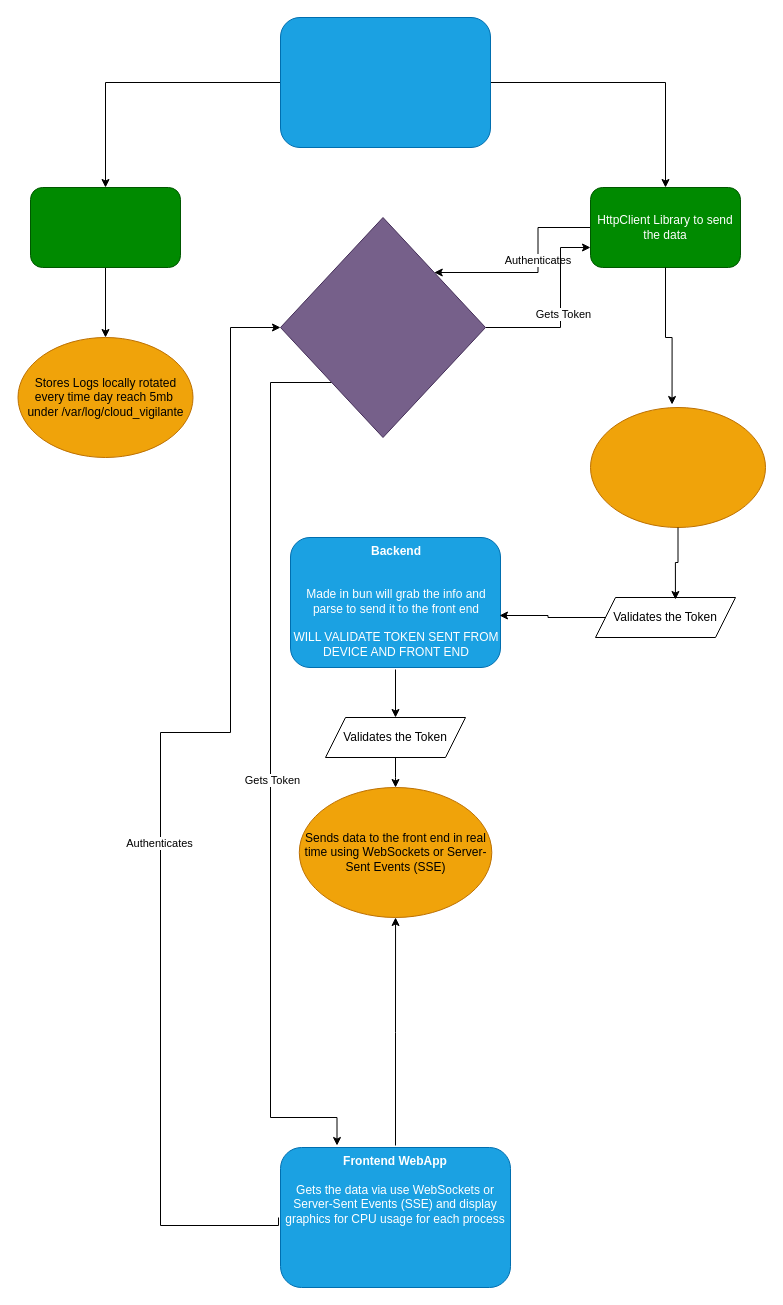
Image size: 783x1305. Some labels were removed from this diagram. The centre of each missing label's shape, as x and y in pixels:
Authentication for APIs will be done using OAUTH 2.0 and JWT: point (383, 327)
Local Logging Capability: point (105, 227)
Process Information Gatherer: Process Name Process Command Cpu Usage: point (385, 82)
Sends the data to our backend every second via post request: point (678, 467)
